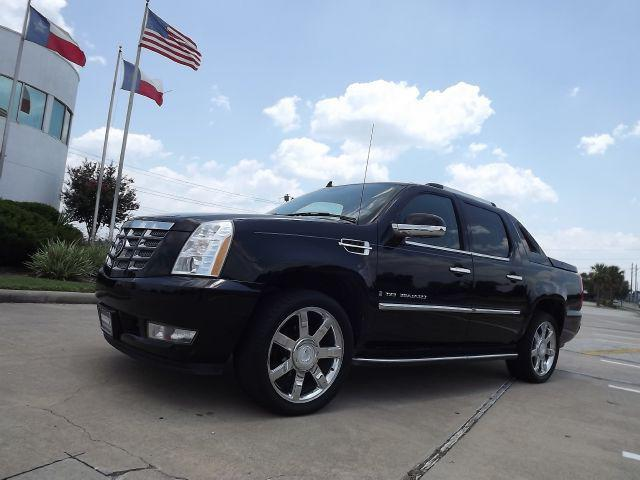Car: (75, 172, 606, 431)
